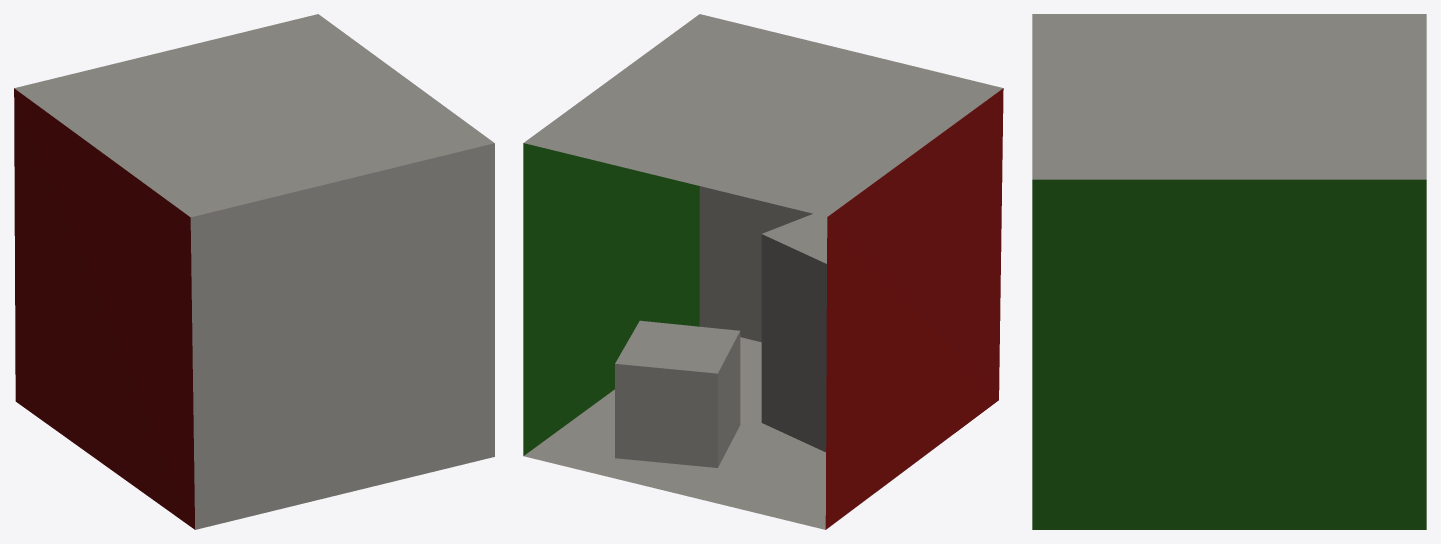
Rendered from cornell.obj.
3 renders of one model, left to right at view 1: azimuth 30°, elevation 25°; view 2: azimuth 150°, elevation 25°; view 3: azimuth 270°, elevation 25°, orthographic. The views are drawn at different scales.
Visible parts, largest first — view 1: backWall, leftWall.001, ceiling; view 2: leftWall.001, ceiling, rightWall, floor, leftWall, shortBox, backWall; view 3: rightWall, ceiling.
Boxes of the visible parts, <box> form: backWall: <box>190,143,494,529</box>; leftWall.001: <box>14,88,194,529</box>; ceiling: <box>14,14,494,217</box>; leftWall.001: <box>825,88,1003,529</box>; ceiling: <box>524,14,1002,216</box>; rightWall: <box>523,143,699,455</box>; floor: <box>524,337,825,529</box>; leftWall: <box>615,320,740,467</box>; shortBox: <box>761,213,827,452</box>; backWall: <box>699,186,812,342</box>; rightWall: <box>1032,179,1426,529</box>; ceiling: <box>1032,14,1426,179</box>.
Bounding box in the file's own units: 47.47 × 46.77 × 47.71.
